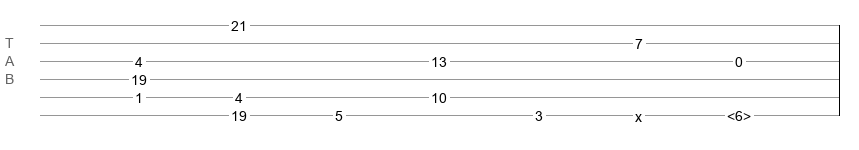0: (735, 54, 743, 64)
1: (135, 90, 143, 100)
10: (431, 90, 447, 100)
13: (431, 54, 447, 64)
19: (131, 72, 147, 82), (231, 108, 247, 118)
21: (231, 18, 247, 28)
3: (535, 108, 543, 118)
4: (135, 54, 143, 64), (235, 90, 243, 100)
5: (335, 108, 343, 118)
7: (635, 36, 643, 46)
harmonic: (727, 108, 751, 118)
x: (635, 109, 642, 117)
